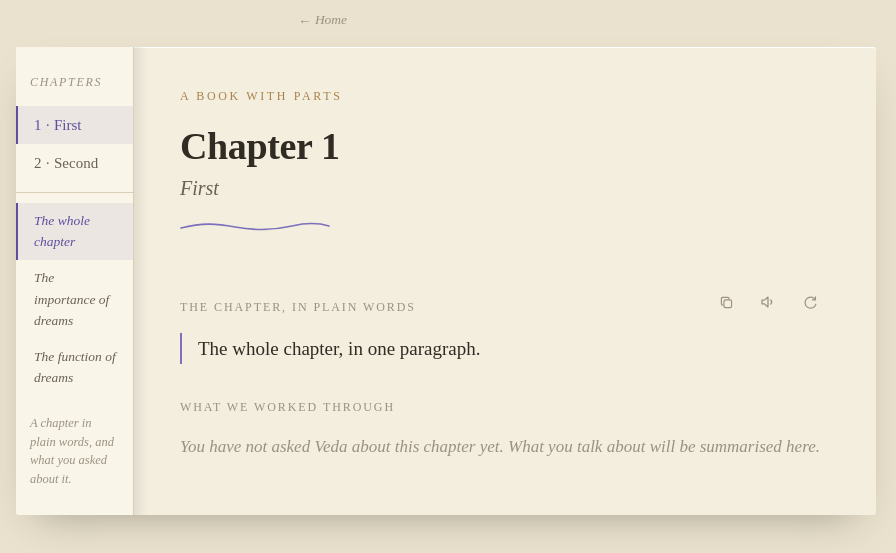
the second row of the rail › opens one part on its own when it is picked
The width and height of the screenshot is (896, 553).
Click the button "The function of dreams". click: x=74, y=367
box: [16,339,133,396]
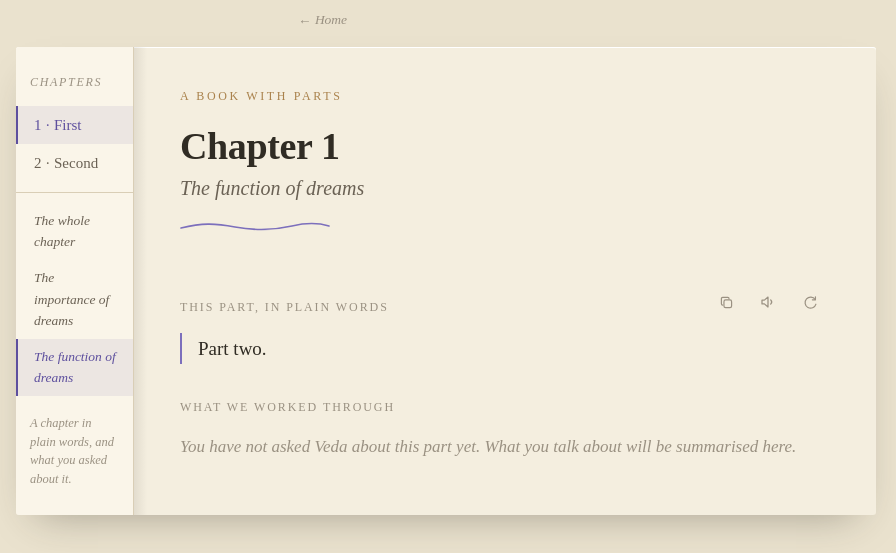
Check: the text "Part two." is shown, box [198,338,267,359]
Check: the text "The whole chapter, in one paragraph." is gone
